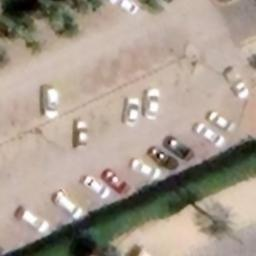SUV: (34, 83, 66, 122)
sedan: (192, 119, 228, 148), (100, 168, 133, 198), (204, 108, 238, 134), (141, 87, 163, 123), (129, 158, 162, 182), (82, 173, 110, 200), (72, 118, 92, 154), (124, 94, 140, 130), (110, 0, 142, 16)
unknown: (144, 145, 178, 174), (162, 134, 197, 162)
van: (14, 207, 53, 237), (51, 191, 86, 223)
